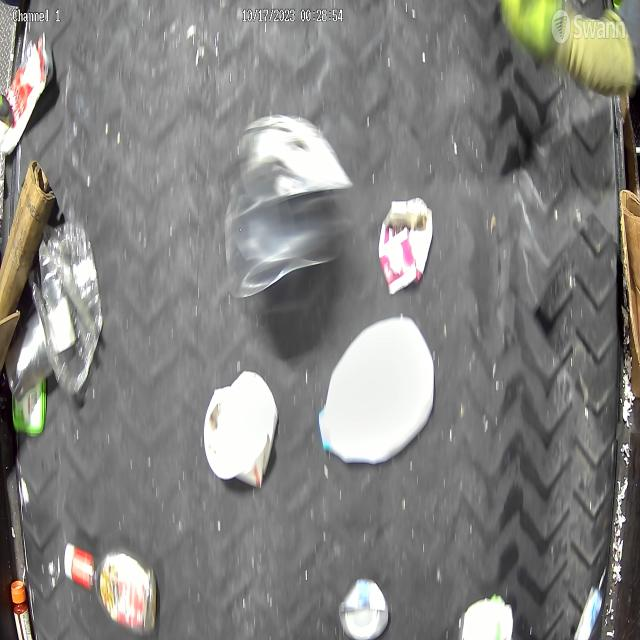can: (5, 310, 53, 401), (338, 575, 392, 640)
milk_jug: (317, 316, 436, 467)
